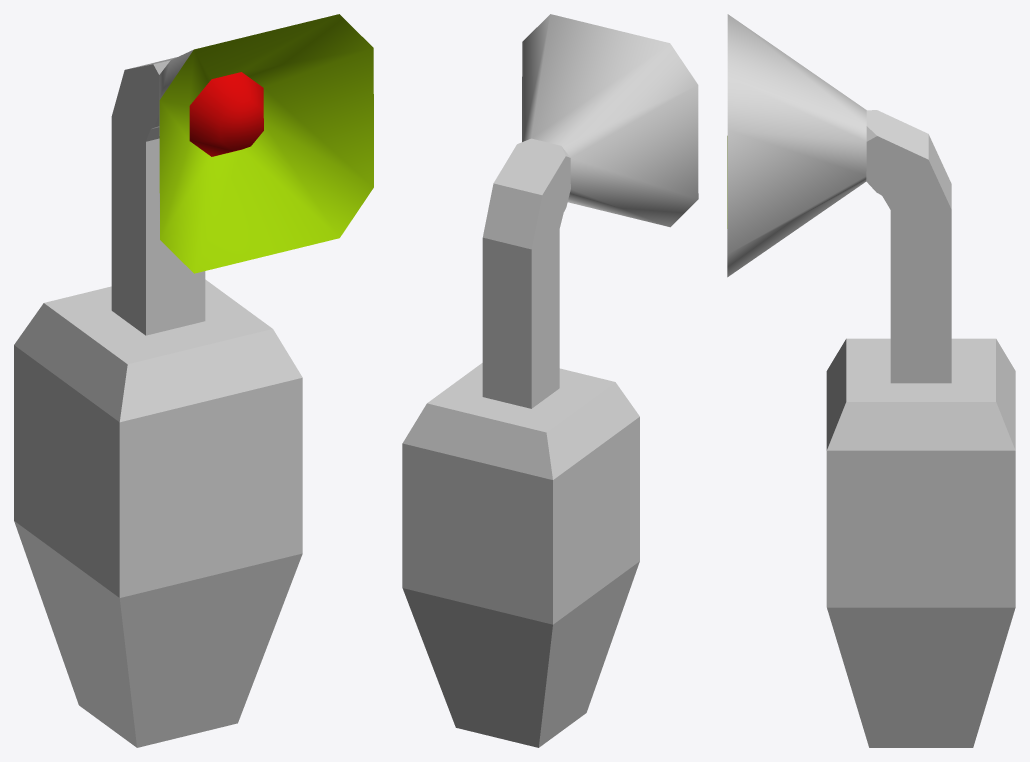
File: SM_Light.FBX
The picture shows the model from 3 angles, left to right: view 1: azimuth 30°, elevation 25°; view 2: azimuth 150°, elevation 25°; view 3: azimuth 270°, elevation 25°; orthographic projection. The views are drawn at different scales.
Visible parts, largest first — view 1: Object; view 2: Object; view 3: Object.
Part boxes in pixels (x1,y1,x2,y2): Object: (14,14,373,747); Object: (402,14,698,747); Object: (727,14,1015,747).
Size of the model in its own units: 98.94 by 336 by 129.
